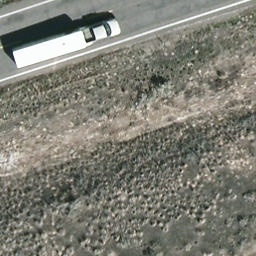camping car: (11, 29, 87, 69)
car: (77, 20, 123, 44)
